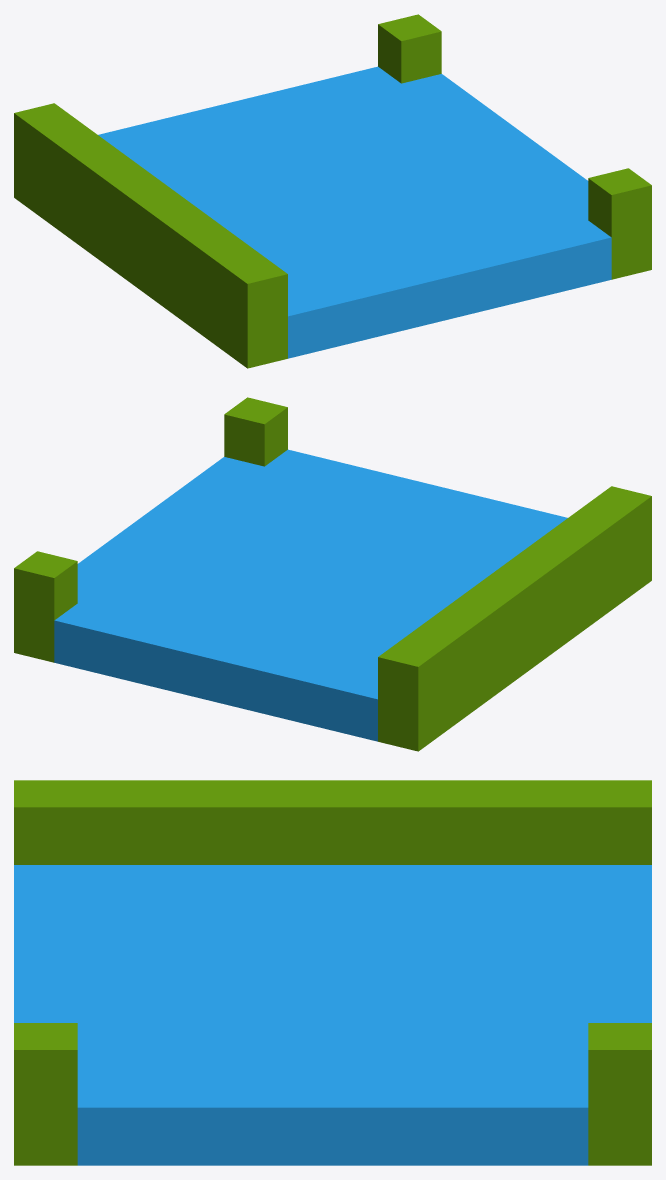
Rendered from TileWater_13.fbx.
3 views of the same model, one above another, from view 1: azimuth 30°, elevation 25°; view 2: azimuth 150°, elevation 25°; view 3: azimuth 270°, elevation 25° (orthographic). The views are drawn at different scales.
Parts seen in each view (by area): view 1: TileWater_13; view 2: TileWater_13; view 3: TileWater_13.
Part boxes in pixels (x1=…): TileWater_13: x1=14, y1=14, x2=651, y2=368; TileWater_13: x1=14, y1=397, x2=651, y2=751; TileWater_13: x1=14, y1=780, x2=651, y2=1165.
Size of the model in its own units: 500 by 100 by 500.
